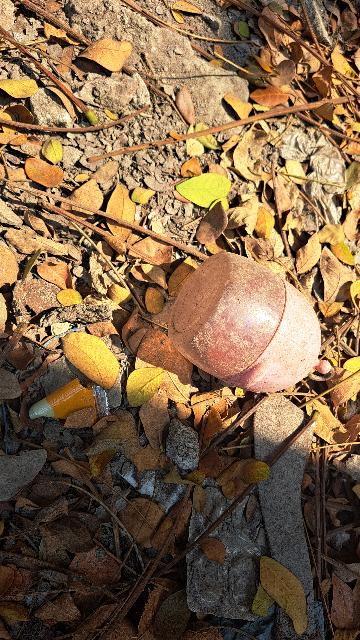hardplastic: (184, 243, 323, 400)
